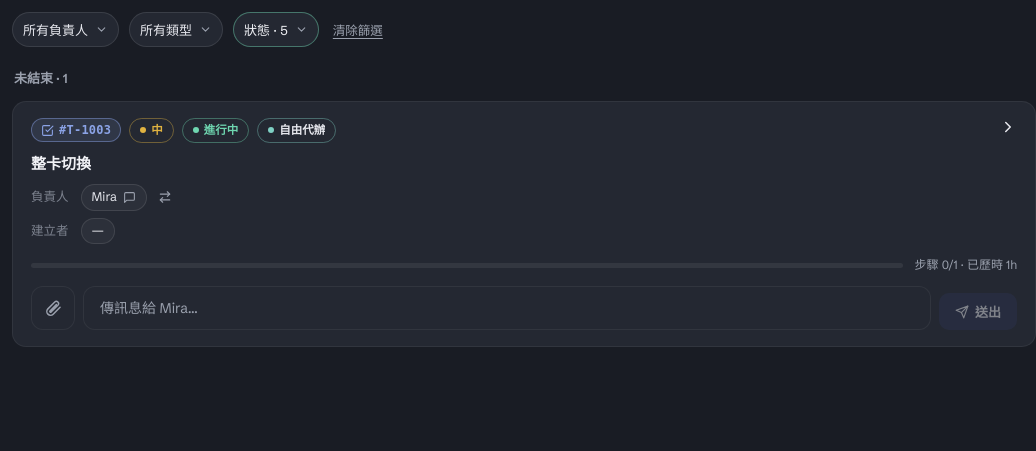
TaskCard whole-card toggle (mobile refactor) › clicking the card body expands the workflow; clicking again collapses
Step 1. Click the button with test id "task-card" → (524, 332), box [12, 100, 1035, 347]
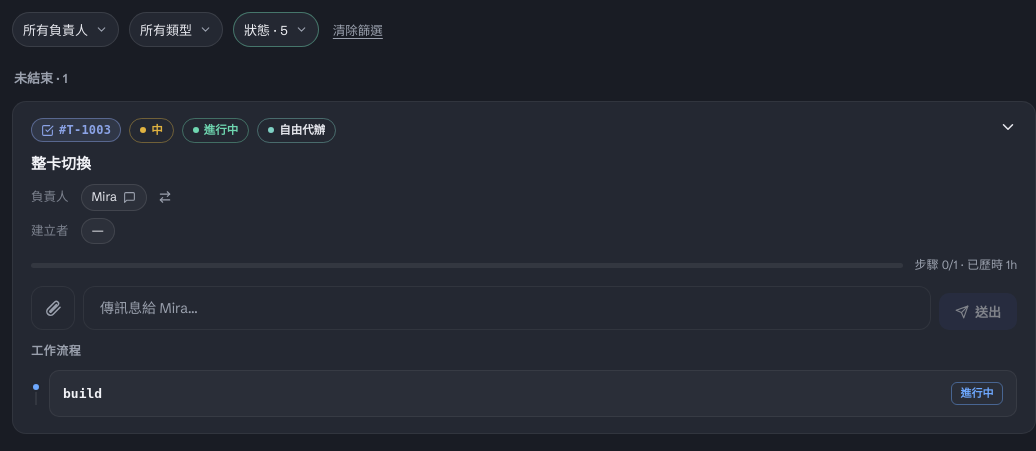
Result: the button with test id "task-card" is expanded
Result: the element with test id "task-step" is shown at [49, 370, 1017, 417]
Step 2. Click the button with test id "task-card" → (53, 114), box [12, 100, 1035, 434]
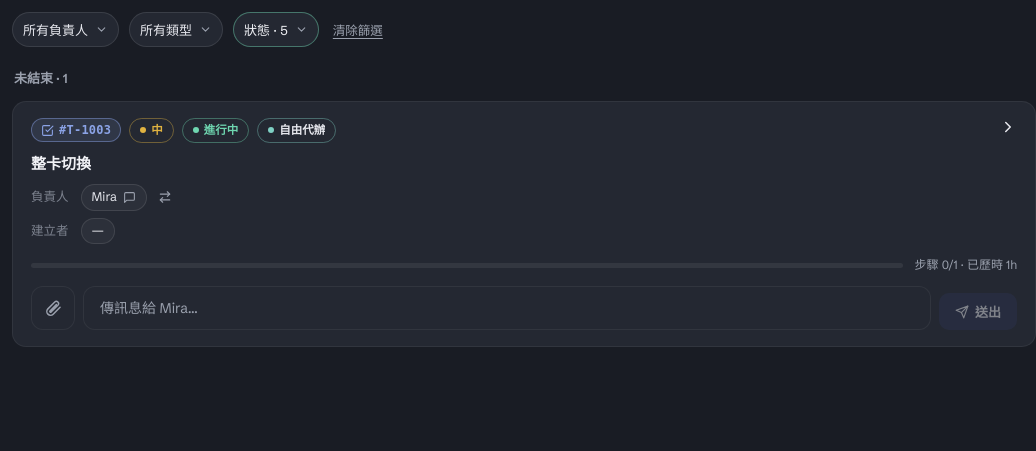
Result: the button with test id "task-card" is collapsed at [12, 100, 1035, 347]
Result: the element with test id "task-step" is gone
